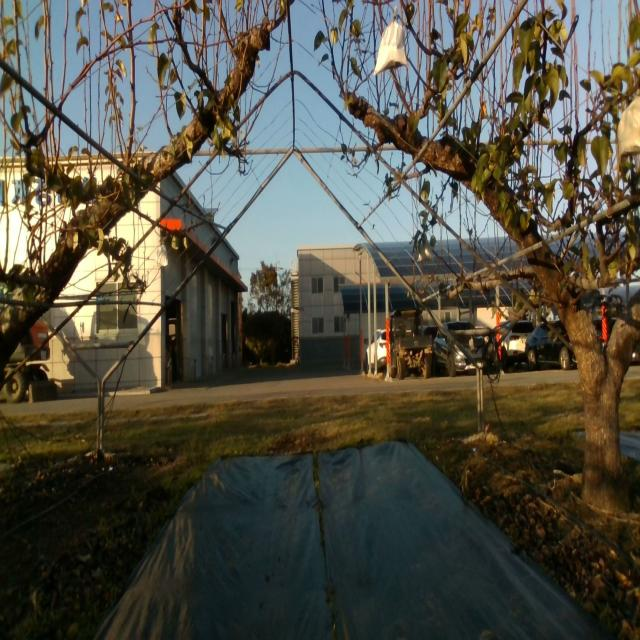pearbags: (373, 5, 409, 75), (616, 94, 640, 160), (418, 240, 434, 263), (156, 244, 168, 267)
